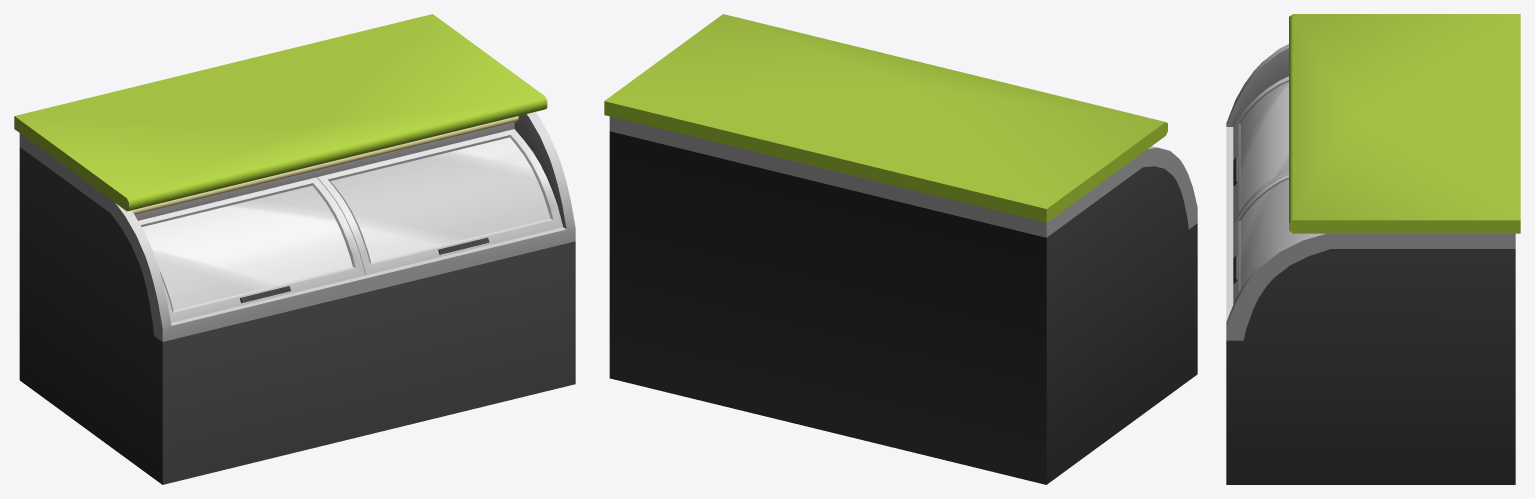
Rendered from CR_CU_Icecream_001.FBX.
The picture shows the model from 3 angles, left to right: view 1: azimuth 30°, elevation 25°; view 2: azimuth 150°, elevation 25°; view 3: azimuth 270°, elevation 25°; orthographic projection. The views are drawn at different scales.
Visible parts, largest first — view 1: CR_CU_Icecream_001, CR_CU_Icecream_001_Light; view 2: CR_CU_Icecream_001; view 3: CR_CU_Icecream_001.
Part boxes in pixels (x1=…): CR_CU_Icecream_001: x1=14, y1=14, x2=575, y2=484; CR_CU_Icecream_001_Light: x1=131, y1=116, x2=518, y2=214; CR_CU_Icecream_001: x1=604, y1=14, x2=1197, y2=484; CR_CU_Icecream_001: x1=1226, y1=14, x2=1520, y2=484.
Size of the model in its own units: 128 by 76.91 by 77.05.
